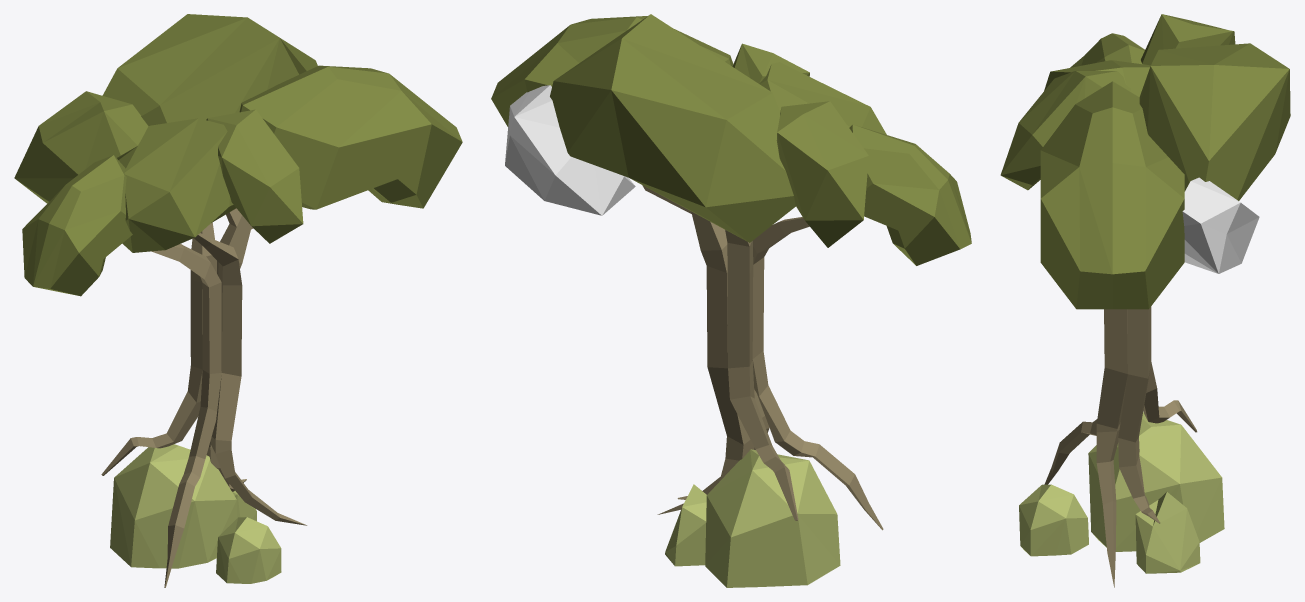
File: Big Tree +  Bushes.FBX
The picture shows the model from 3 angles, left to right: view 1: azimuth 30°, elevation 25°; view 2: azimuth 150°, elevation 25°; view 3: azimuth 270°, elevation 25°; orthographic projection. The views are drawn at different scales.
Visible parts, largest first — view 1: Plane003, Box001, GeoSphere007, GeoSphere008, GeoSphere001, Plane004, GeoSphere010, GeoSphere009, GeoSphere005; view 2: GeoSphere007, Box001, GeoSphere001, Plane004, GeoSphere010, GeoSphere011, Plane003, GeoSphere008, GeoSphere004, GeoSphere009; view 3: Plane003, GeoSphere007, Box001, GeoSphere001, GeoSphere011, GeoSphere009, GeoSphere005, GeoSphere004, GeoSphere010, Plane004, GeoSphere008.
Boxes of the visible parts, <box> form: Plane003: <box>239,65,462,209</box>; Box001: <box>101,208,307,587</box>; GeoSphere007: <box>102,14,317,168</box>; GeoSphere008: <box>122,118,236,252</box>; GeoSphere001: <box>110,444,236,568</box>; Plane004: <box>22,155,132,296</box>; GeoSphere010: <box>14,91,148,203</box>; GeoSphere009: <box>206,109,303,243</box>; GeoSphere005: <box>216,517,281,583</box>; GeoSphere007: <box>550,14,795,242</box>; Box001: <box>642,185,883,530</box>; GeoSphere001: <box>705,449,840,587</box>; Plane004: <box>849,124,971,265</box>; GeoSphere010: <box>776,101,868,247</box>; GeoSphere011: <box>505,85,635,215</box>; Plane003: <box>491,16,733,126</box>; GeoSphere008: <box>759,62,886,134</box>; GeoSphere004: <box>665,484,706,566</box>; GeoSphere009: <box>732,43,809,83</box>; Plane003: <box>1040,81,1184,309</box>; GeoSphere007: <box>1139,43,1290,200</box>; Box001: <box>1044,306,1197,587</box>; GeoSphere001: <box>1088,412,1224,551</box>; GeoSphere011: <box>1182,177,1259,273</box>; GeoSphere009: <box>1000,71,1130,190</box>; GeoSphere005: <box>1019,484,1088,556</box>; GeoSphere004: <box>1135,492,1200,573</box>; GeoSphere010: <box>1141,14,1235,65</box>; Plane004: <box>1070,33,1144,67</box>; GeoSphere008: <box>1044,60,1150,97</box>.
Size of the model in its own units: 101 by 108 by 54.67.
